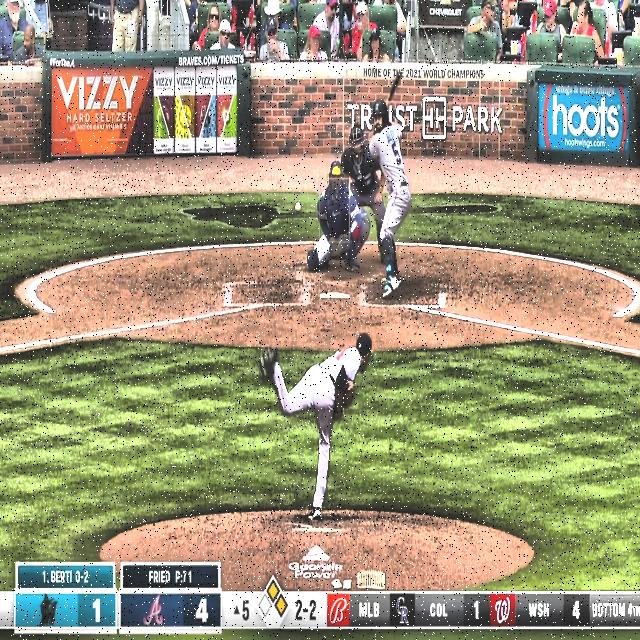baseball: (295, 202, 301, 213)
